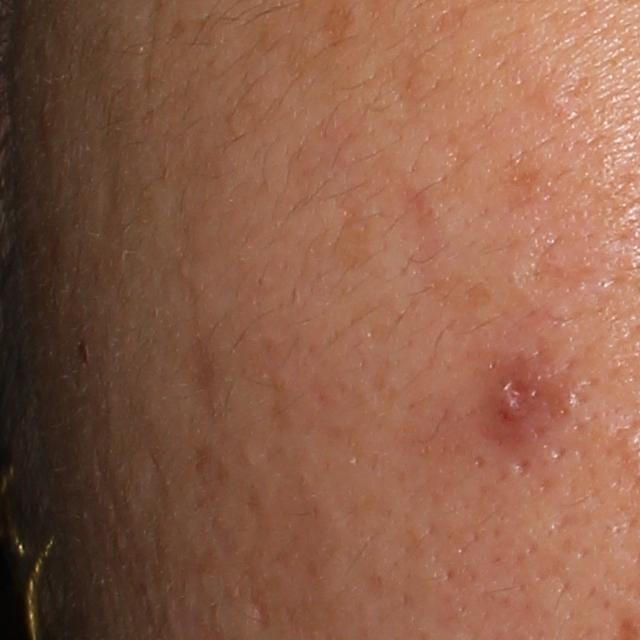atrophic_scar: (503, 229, 613, 320), (242, 582, 277, 633)
